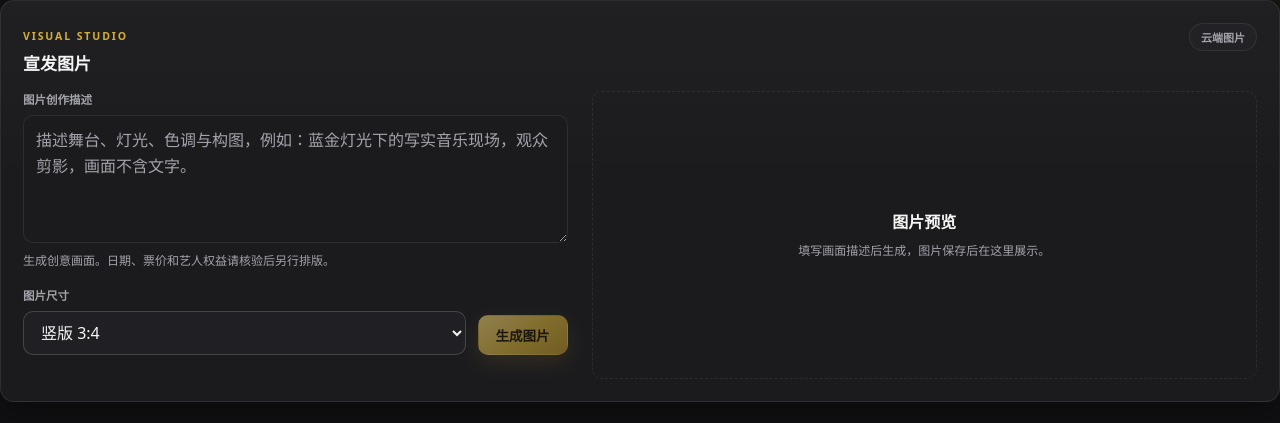
Test case: preserves the description on failure and rejects non-HTTPS previews
expect the button "生成图片" is disabled: met, box [478,315,568,355]
Type "舞台" into the text box labelled "图片创作描述".
click(295, 179); type("舞台")  # box [23,115,568,243]
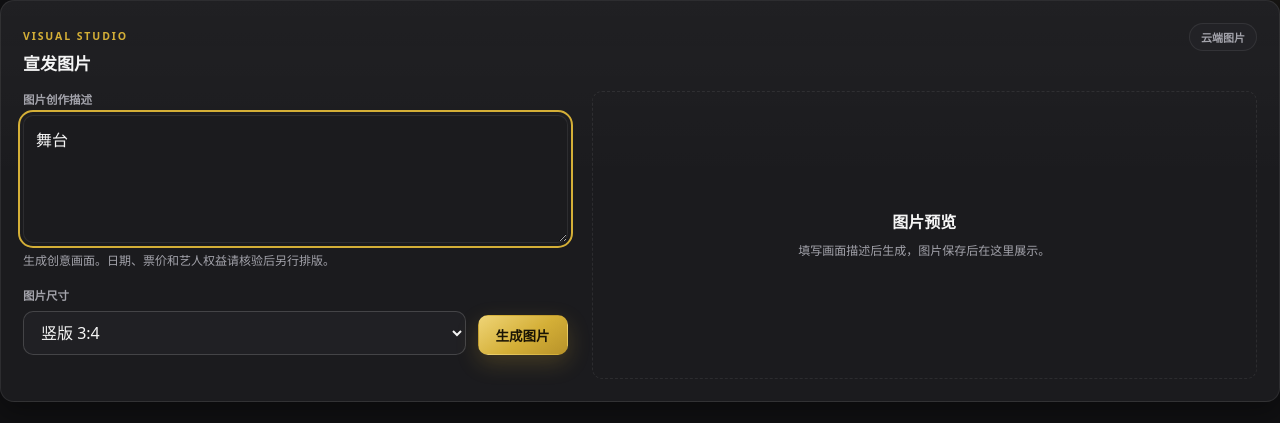
Click the button "生成图片".
click(522, 335)  # box [478,315,568,355]
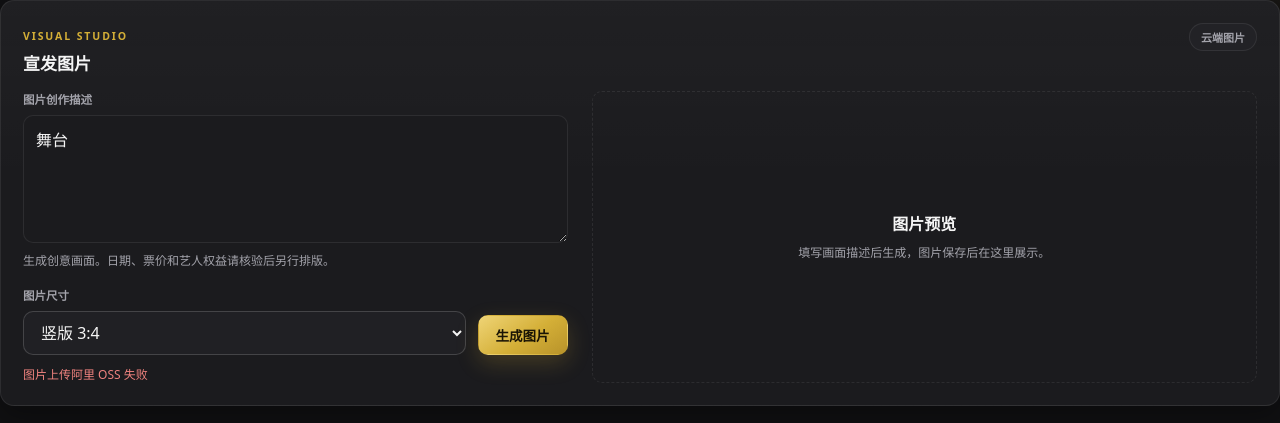
expect the message reads "图片上传阿里 OSS 失败": met, box [23,366,148,383]
Click the button "生成图片".
click(522, 335)  # box [478,315,568,355]
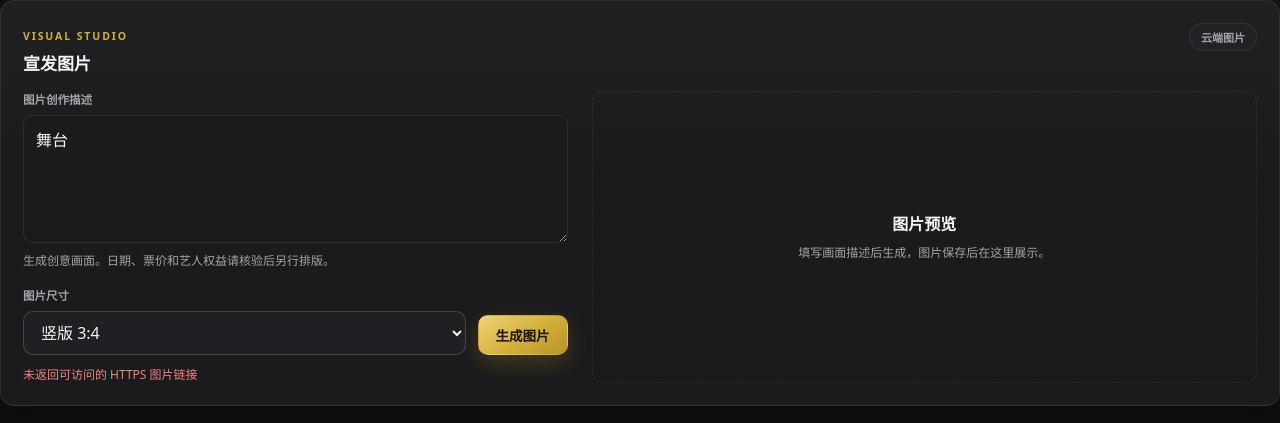
expect the message reads "未返回可访问的 HTTPS 图片链接": met, box [23,366,198,383]
